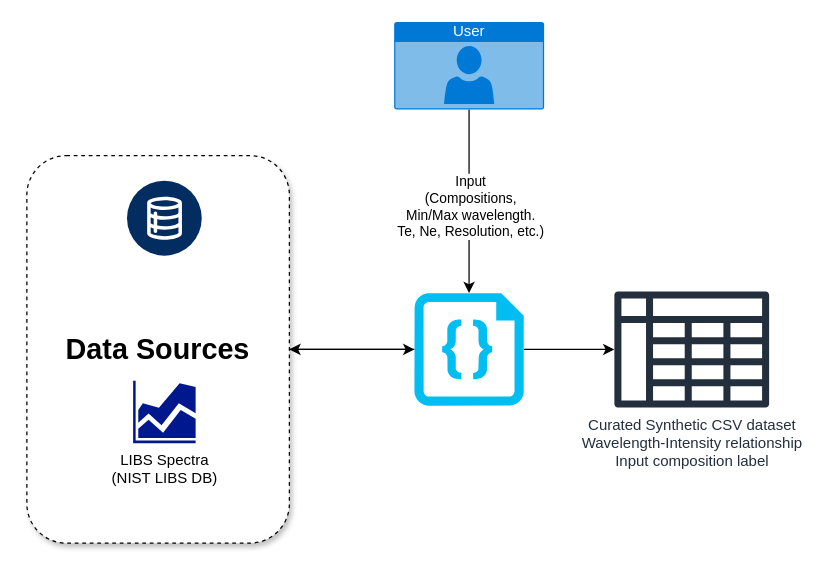
The diagram is 824 pixels wide and 574 high, and some of its shapes have lost their labels. The shapes that lost their labels are listed below. From the top down, each one's centre as x and y in pixels, then its label:
point (164, 217): Material Compositions (matweb)
point (468, 348): LIBSDataCurator Tool
